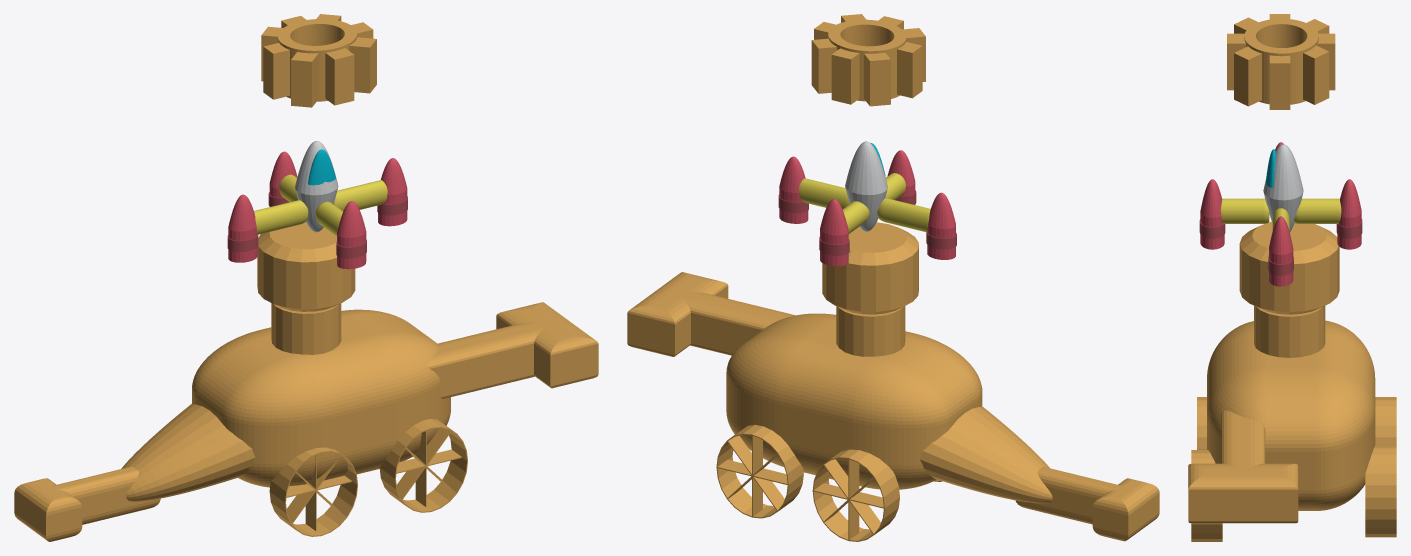
File: Car, rocket and gear..glb
3 views of the same model, side by side, from view 1: azimuth 30°, elevation 25°; view 2: azimuth 150°, elevation 25°; view 3: azimuth 270°, elevation 25° (orthographic). The views are drawn at different scales.
Parts seen in each view (by area): view 1: Mesh_Mesh_head_geo.001_lambert2SG.001; view 2: Mesh_Mesh_head_geo.001_lambert2SG.001; view 3: Mesh_Mesh_head_geo.001_lambert2SG.001.
Part boxes in pixels (x1=…): Mesh_Mesh_head_geo.001_lambert2SG.001: x1=14, y1=14, x2=598, y2=541; Mesh_Mesh_head_geo.001_lambert2SG.001: x1=627, y1=14, x2=1159, y2=541; Mesh_Mesh_head_geo.001_lambert2SG.001: x1=1188, y1=14, x2=1396, y2=541.
Bounding box in the file's own units: 0.213 × 0.181 × 0.073.
